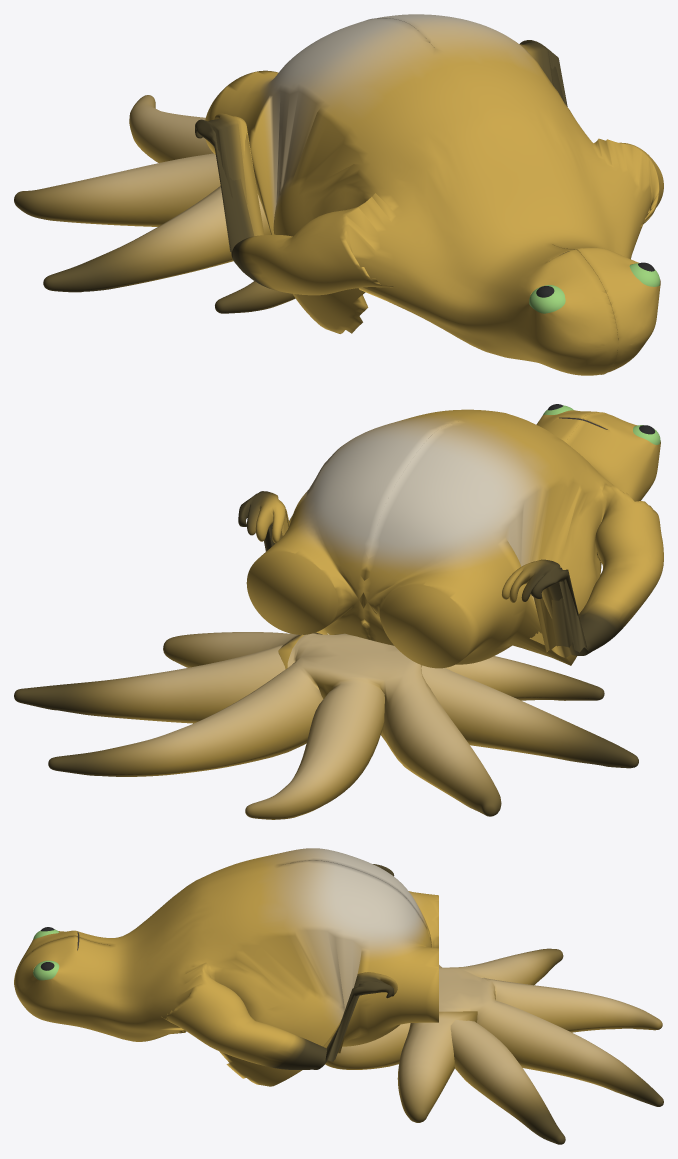
File: milkfrog_halfbody.glb
3 renders of one model, top to bottom at view 1: azimuth 30°, elevation 25°; view 2: azimuth 150°, elevation 25°; view 3: azimuth 270°, elevation 25°, orthographic. The views are drawn at different scales.
Visible parts, largest first — view 1: MilkFrog_HalfBody; view 2: MilkFrog_HalfBody; view 3: MilkFrog_HalfBody.
Boxes of the visible parts, x1=… form: MilkFrog_HalfBody: x1=14, y1=14, x2=663, y2=375; MilkFrog_HalfBody: x1=14, y1=404, x2=663, y2=819; MilkFrog_HalfBody: x1=14, y1=848, x2=663, y2=1144.
Size of the model in its own units: 1.59 by 0.6441 by 2.06.
